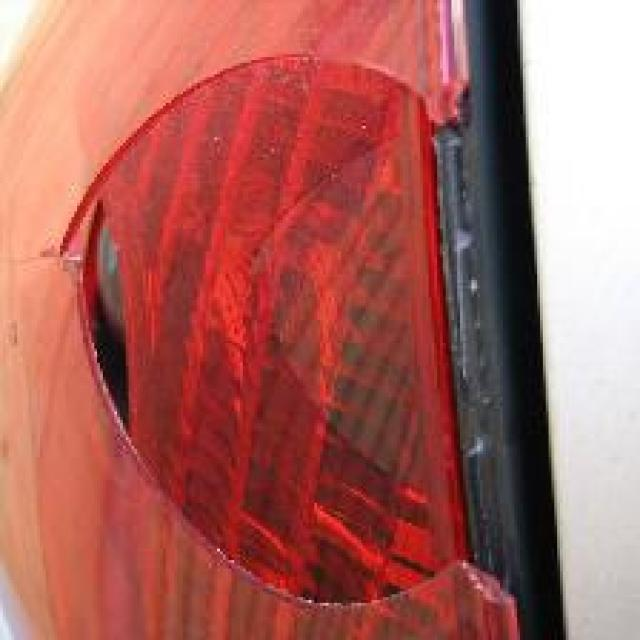damaged: (57, 54, 520, 623)
